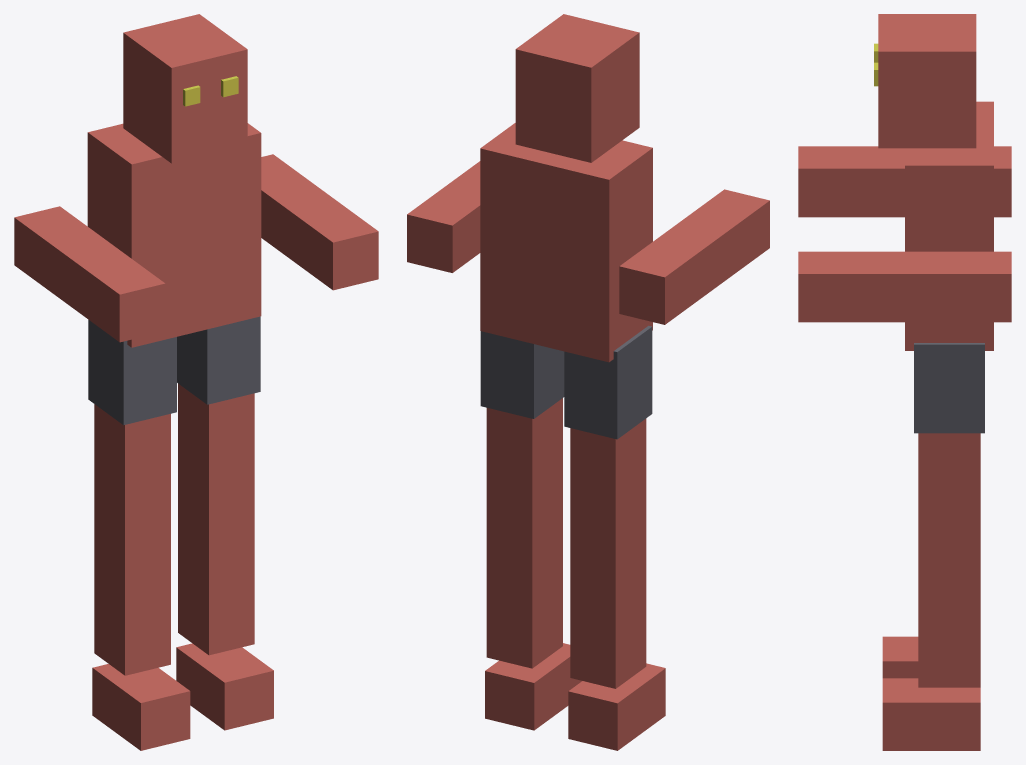
Rendered from Zombie_Runner.glb.
3 views of the same model, side by side, from view 1: azimuth 30°, elevation 25°; view 2: azimuth 150°, elevation 25°; view 3: azimuth 270°, elevation 25° (orthographic).
Bounding box in the file's own units: 0.68 × 1.7 × 0.48.
